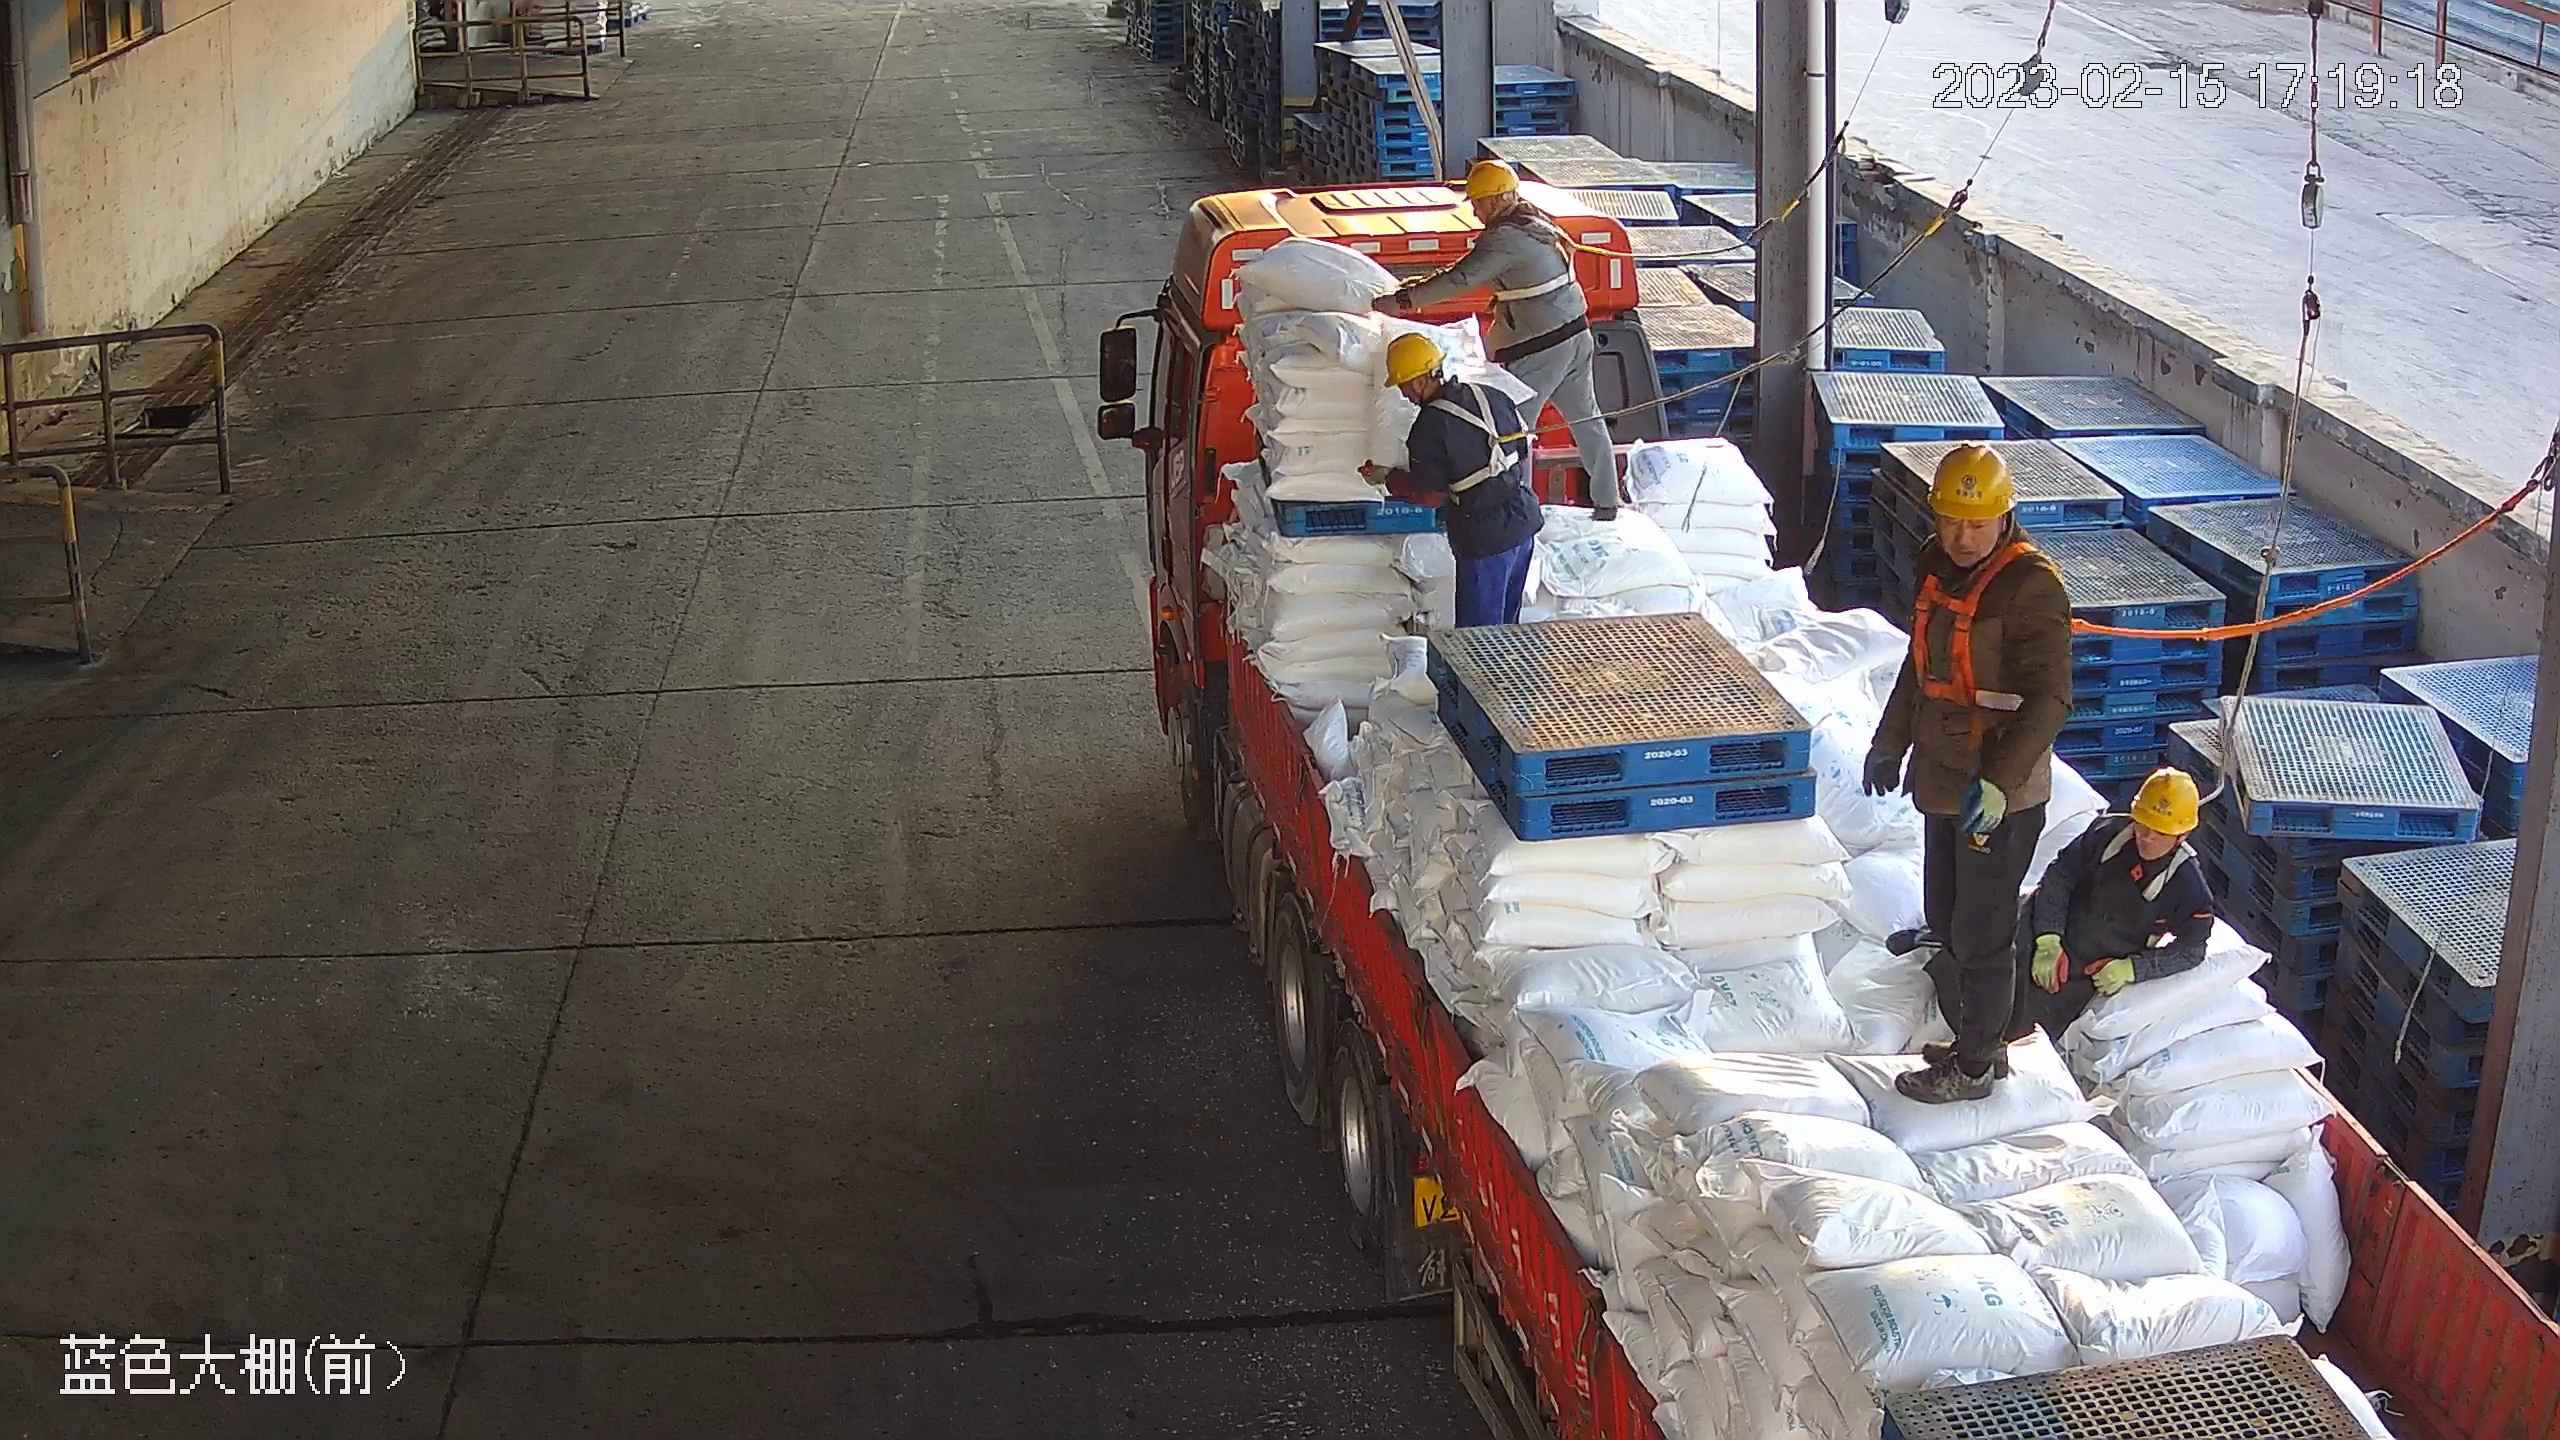belt: (1900, 554, 2108, 711), (1429, 381, 1536, 484), (1495, 207, 1615, 293), (2084, 830, 2208, 900)
head: (1895, 439, 2067, 652), (2056, 769, 2217, 881), (1379, 335, 1520, 459), (1447, 164, 1576, 291)
helmet: (1923, 444, 2020, 522), (2130, 766, 2201, 835), (1383, 333, 1449, 386), (1464, 161, 1520, 201)
people: (1859, 442, 2078, 1111), (1884, 769, 2217, 1050), (1373, 162, 1620, 522), (1357, 330, 1551, 639)
truck: (1083, 172, 2560, 1440)
